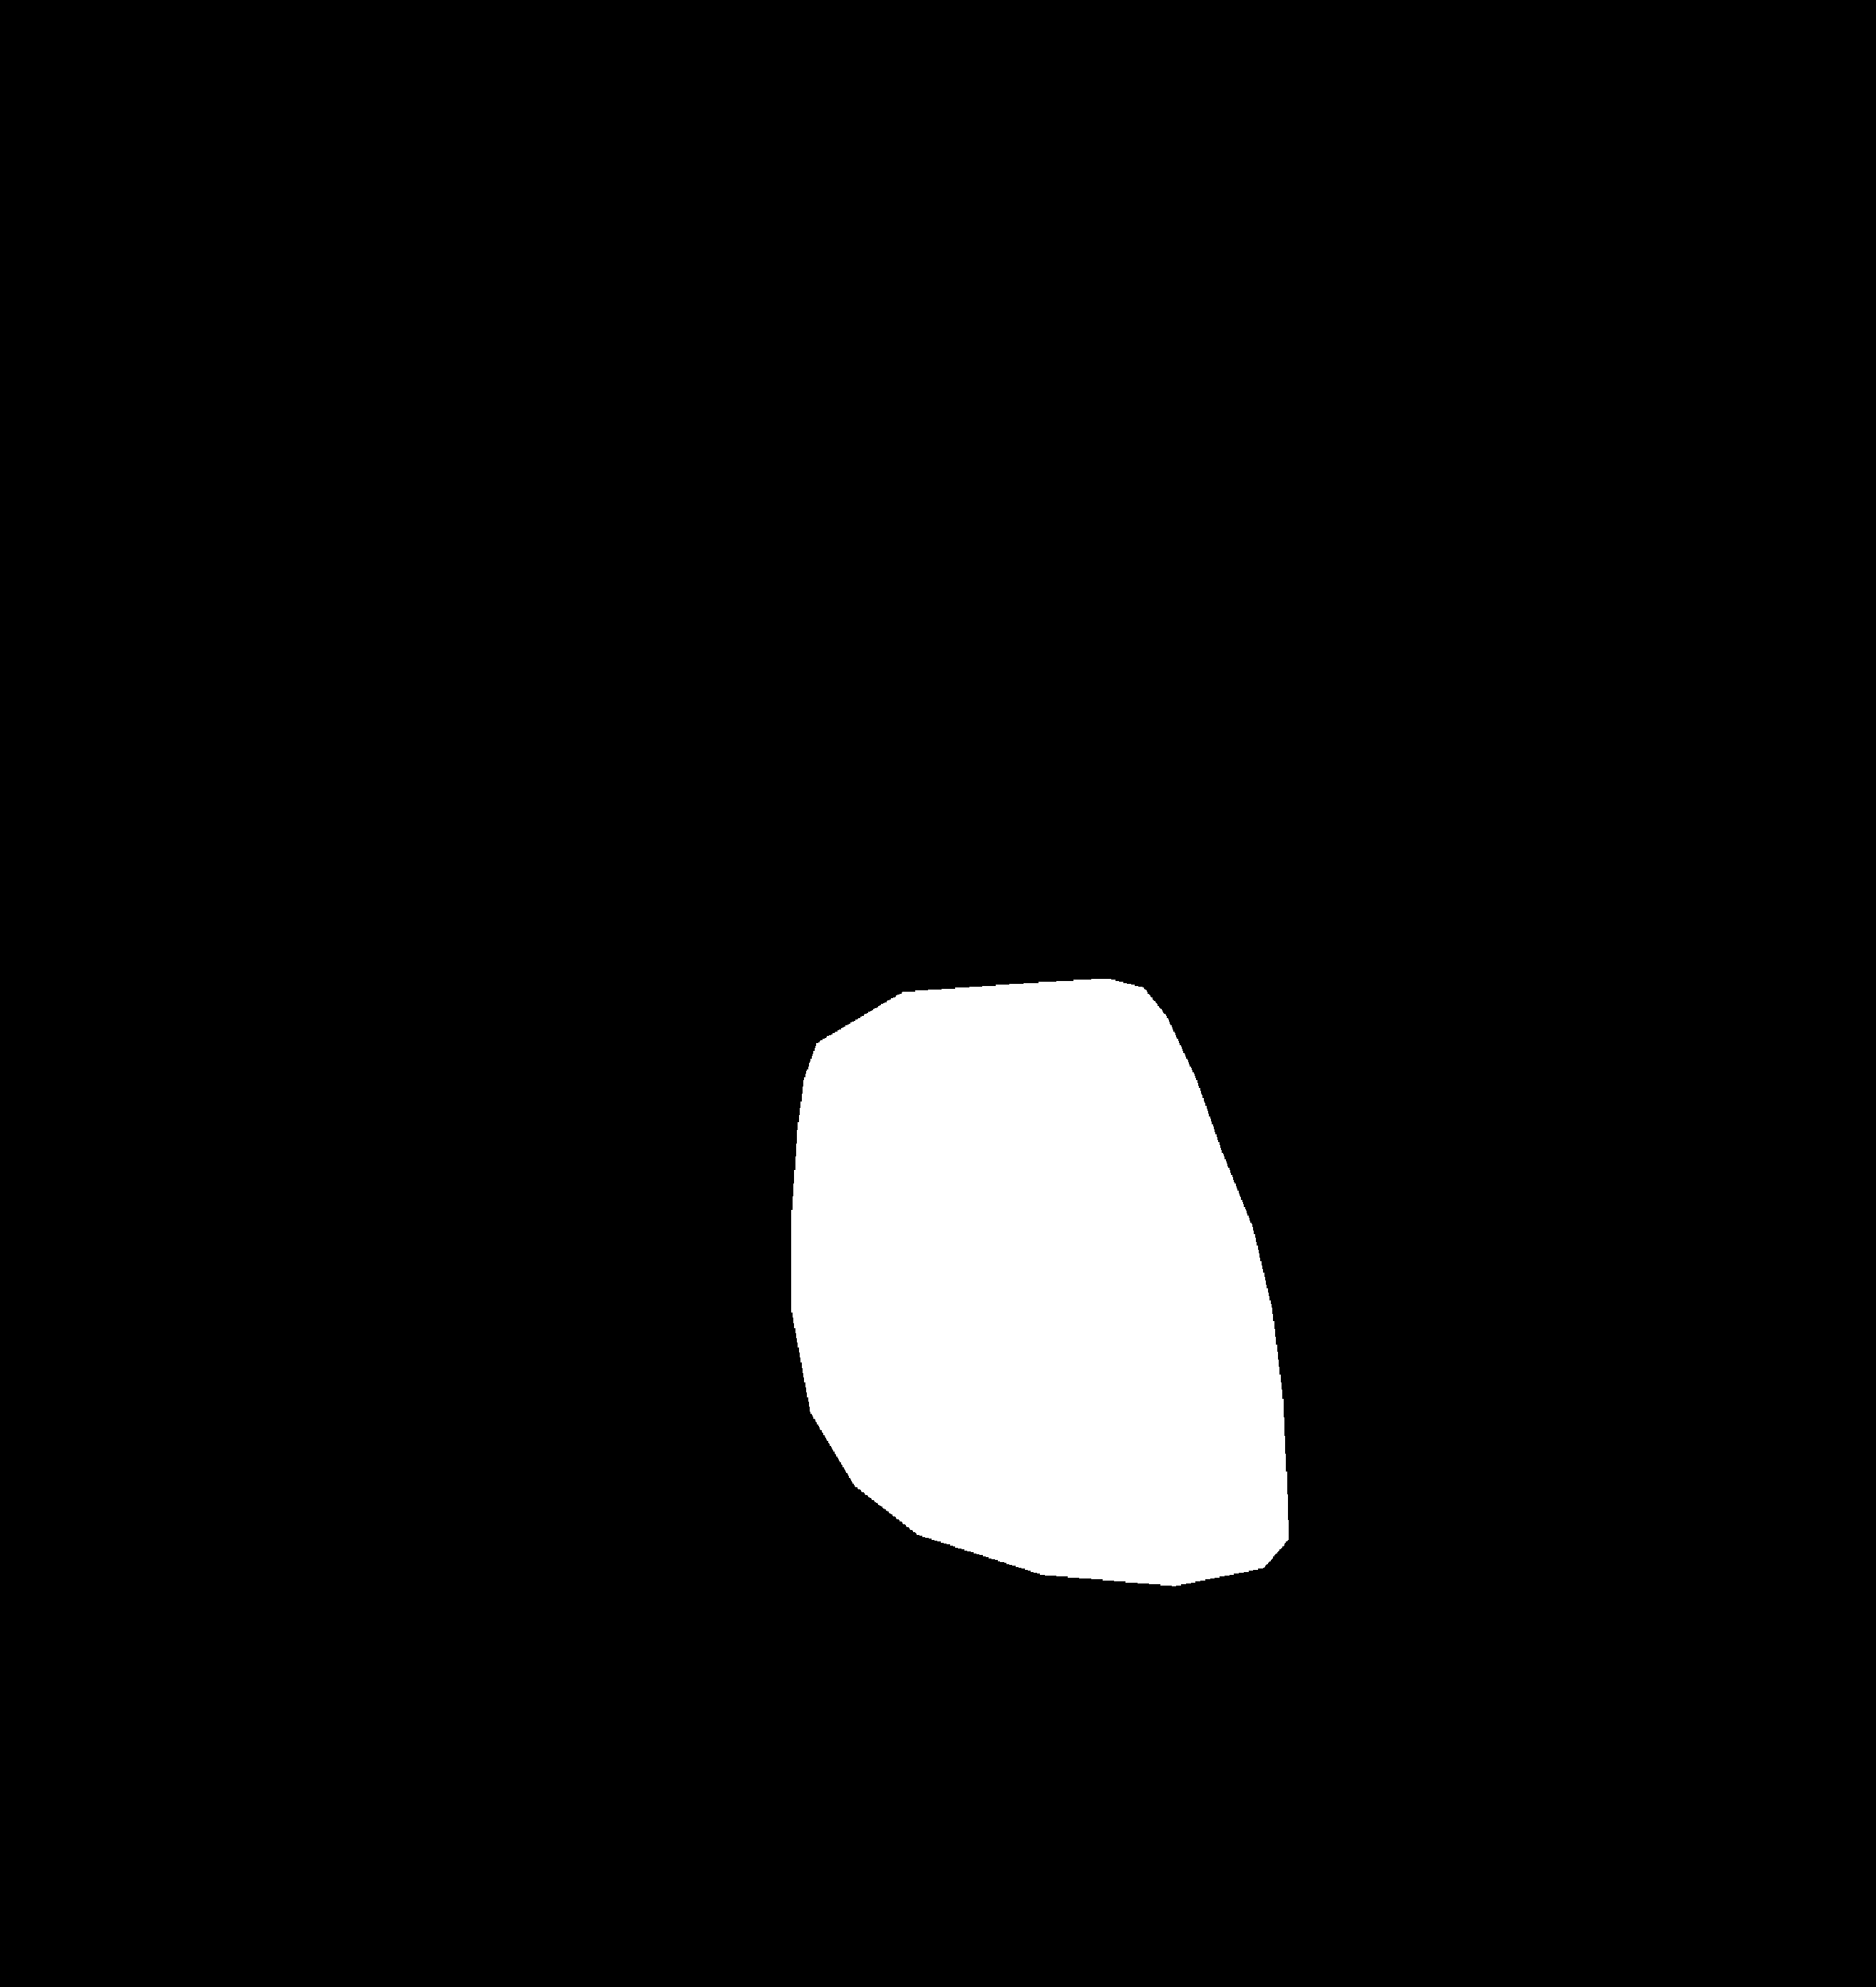heart: (792, 1008, 1285, 1670)
left_lung: (224, 183, 880, 1883)
right_lung: (1061, 178, 1643, 1723)
